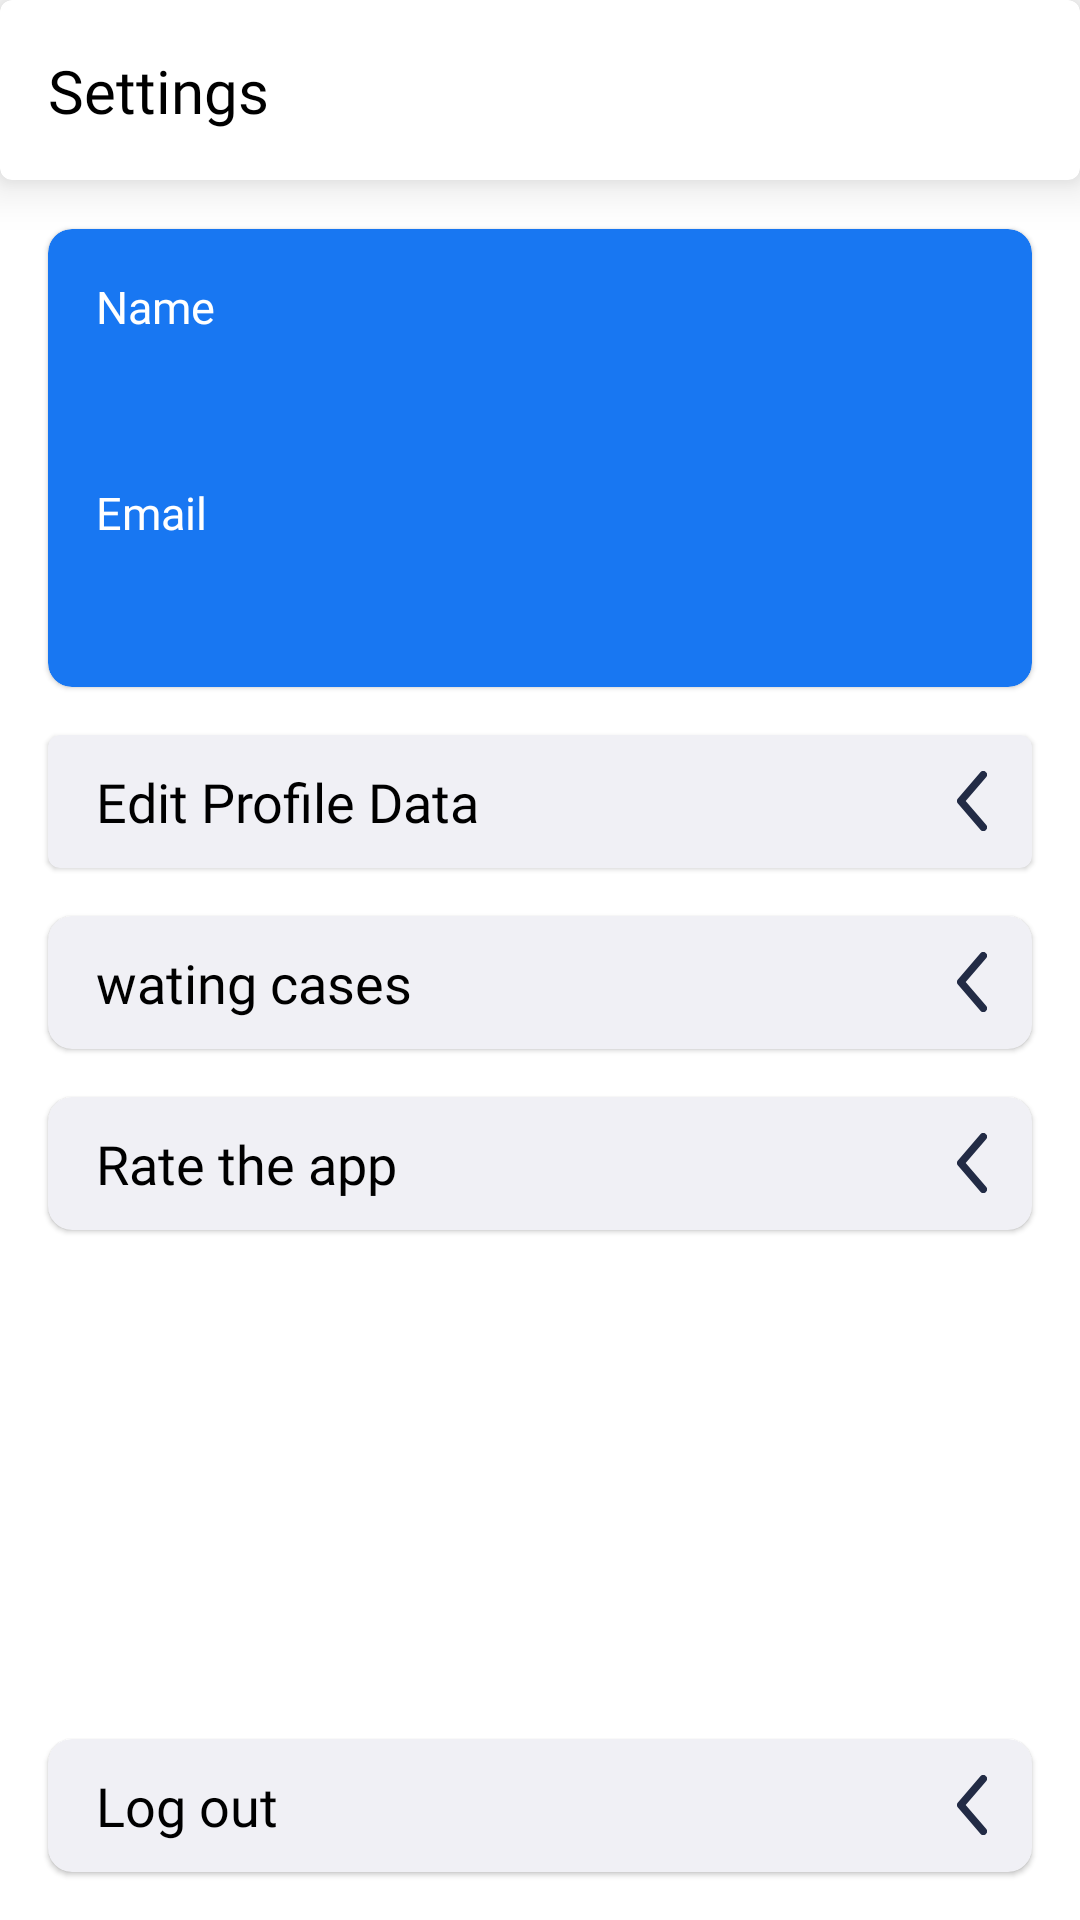

Icon click points for this 1080w x 1920h phone screenshot, format [x,y]:
arrow: [972,801], [972,982], [972,1163], [972,1805]
